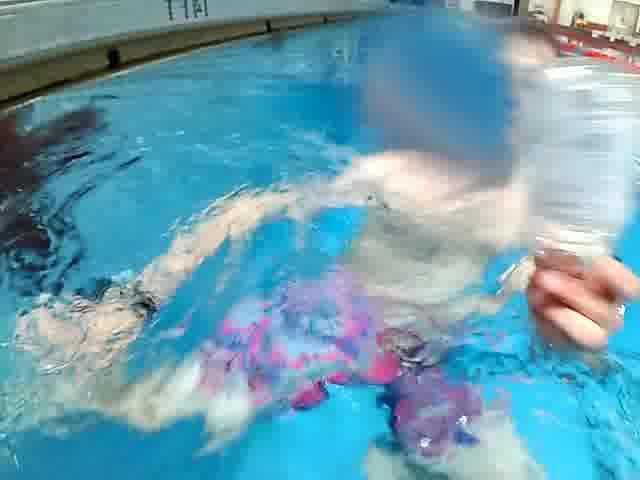Bottle: (525, 40, 640, 323)
